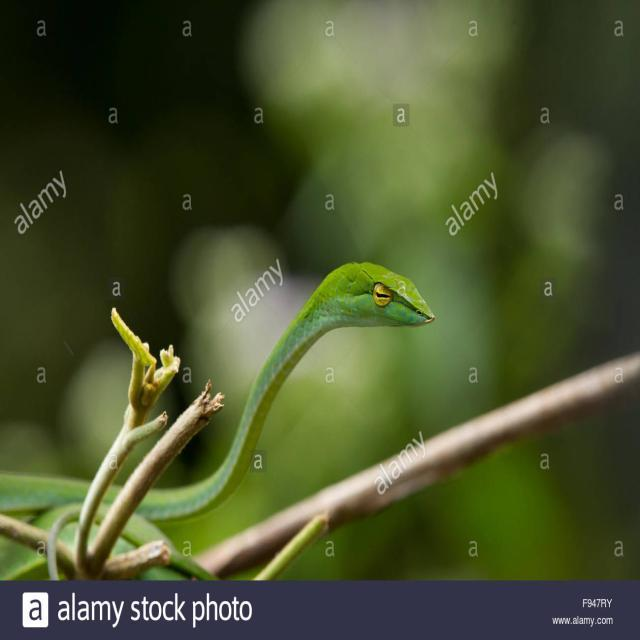Snake: (46, 257, 435, 578)
